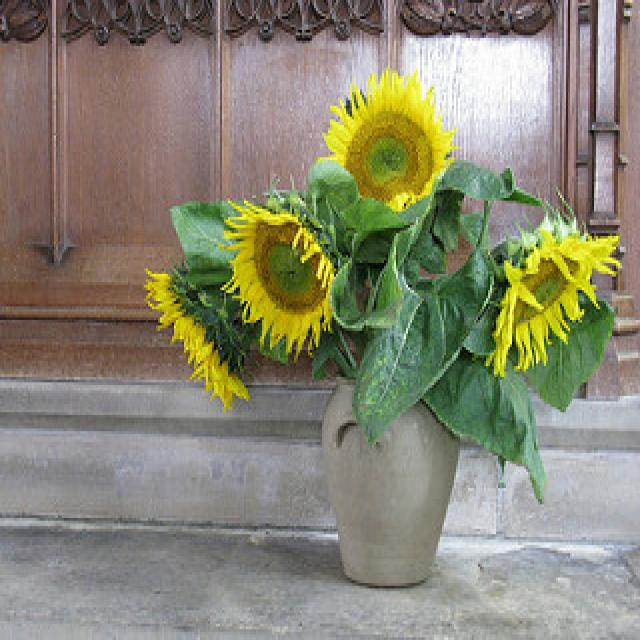sunflower: (492, 228, 619, 387), (226, 195, 342, 360), (328, 72, 453, 212), (137, 269, 247, 419)
